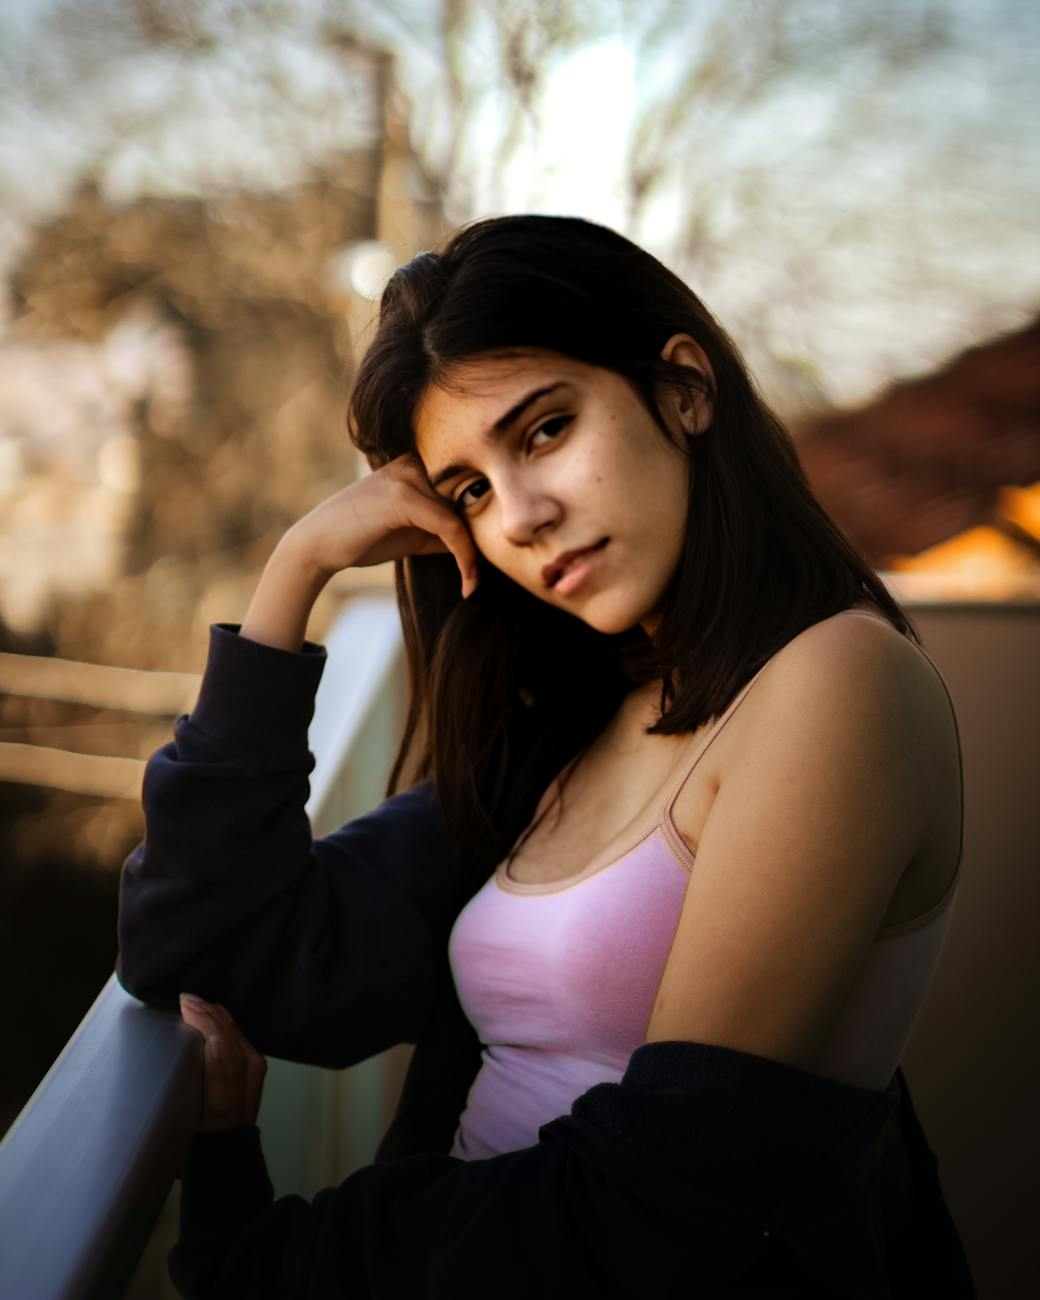sleeveless_top: (404, 621, 961, 1122)
transparent_top: (401, 622, 961, 1225)
